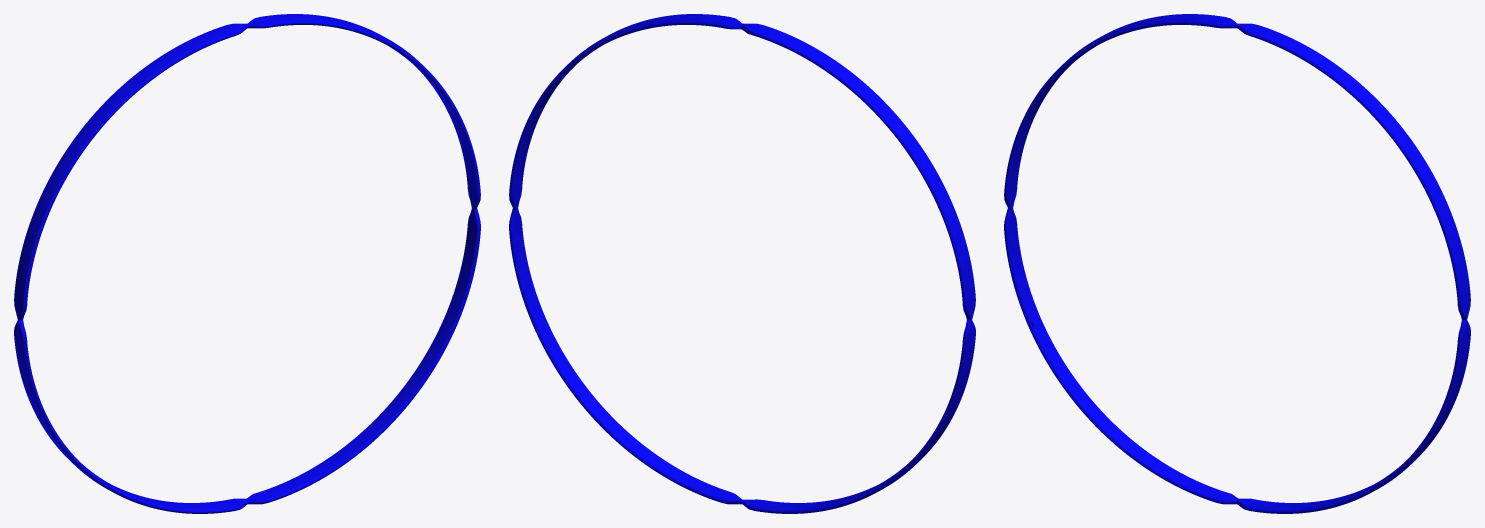
The model's file is zRotation.obj.
3 views of the same model, side by side, from view 1: azimuth 30°, elevation 25°; view 2: azimuth 150°, elevation 25°; view 3: azimuth 330°, elevation 25° (orthographic).
Visible parts, largest first — view 1: z; view 2: z; view 3: z.
Part boxes in pixels (box(x1,y1,x2,y2)): z: box(14, 14, 480, 513); z: box(509, 14, 975, 513); z: box(1004, 14, 1470, 513).
Size of the model in its own units: 131 by 131 by 5.25.
